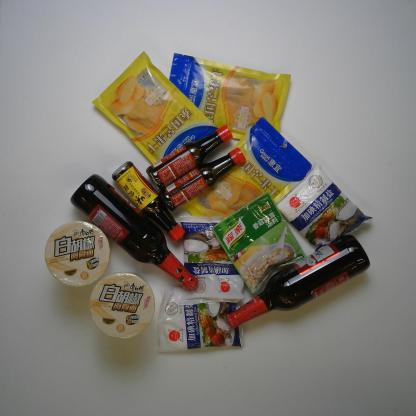Alcohol: (65, 170, 204, 290), (226, 234, 367, 329)
Dried Fruit: (92, 49, 214, 169), (181, 116, 307, 223), (158, 51, 295, 138)
Instant Noodles: (38, 225, 115, 286), (89, 273, 155, 340)
Seasoner: (215, 199, 299, 282), (283, 161, 360, 246), (176, 218, 251, 305), (113, 160, 189, 244), (156, 288, 245, 354), (147, 124, 235, 188), (160, 148, 245, 211)
